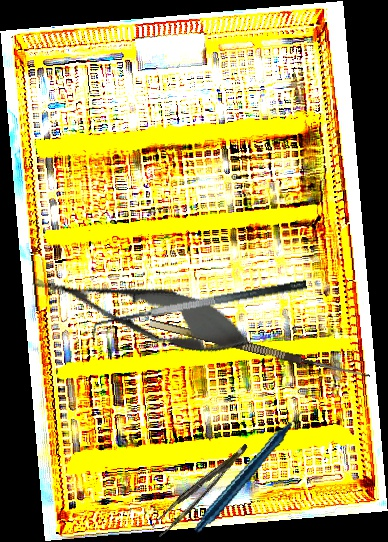Handpiece: (174, 408, 333, 534)
Hook Surgical: (148, 307, 374, 382)
Micro Scissor: (25, 253, 258, 368)
Spatula Surgical: (89, 279, 310, 342)
Tissue Forceps: (146, 443, 259, 538)
